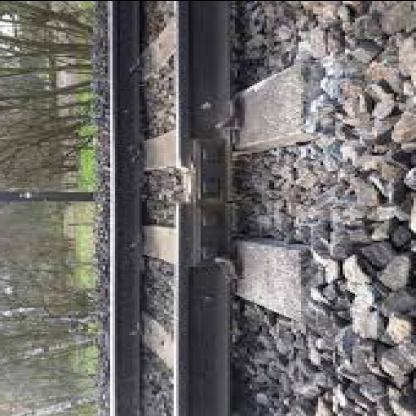Defective 2: (162, 155, 242, 223)
